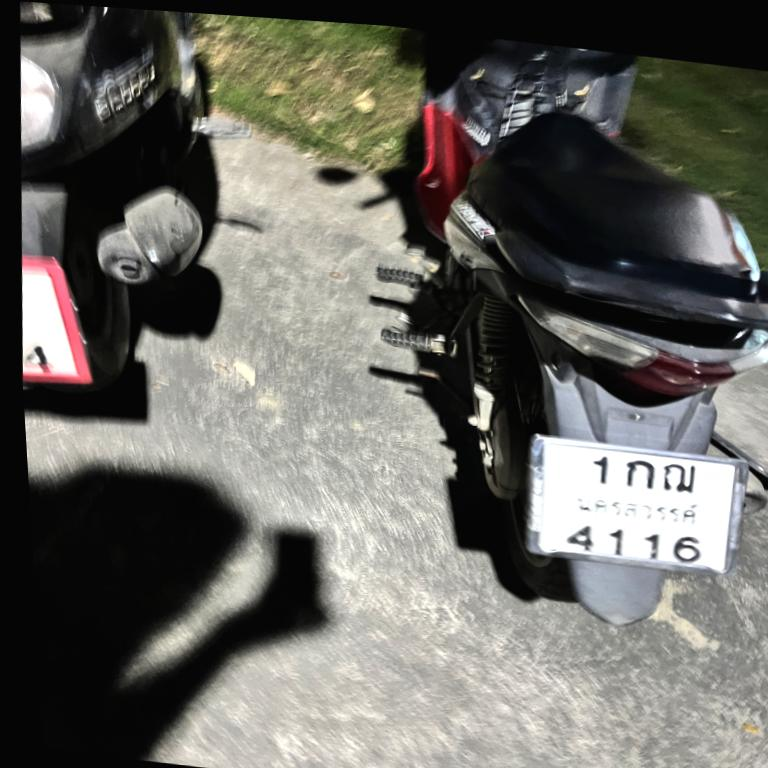license plate: (524, 428, 751, 582), (15, 255, 90, 385)
